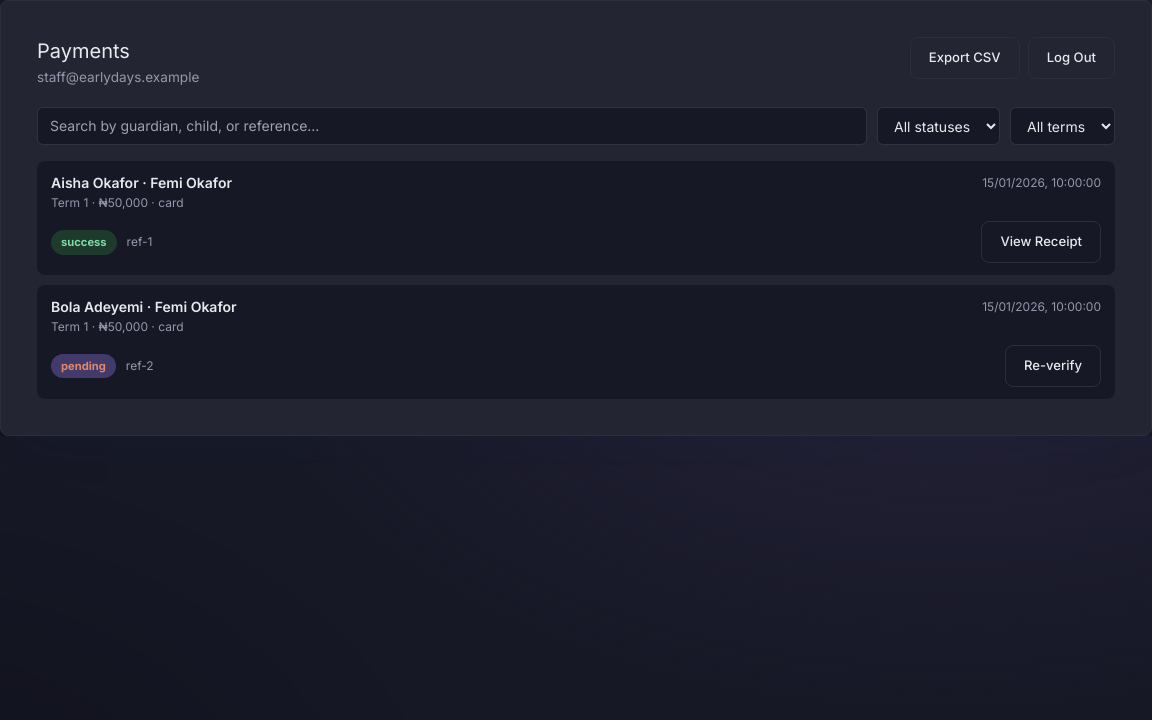
Test: AdminPaymentsList › re-verifies a pending payment and updates its status on success
Expected: the text "Bola Adeyemi · Femi Okafor" is shown, [51,297,237,317]
Click the button "Re-verify" at [1053, 366], box [1005,345,1101,387]
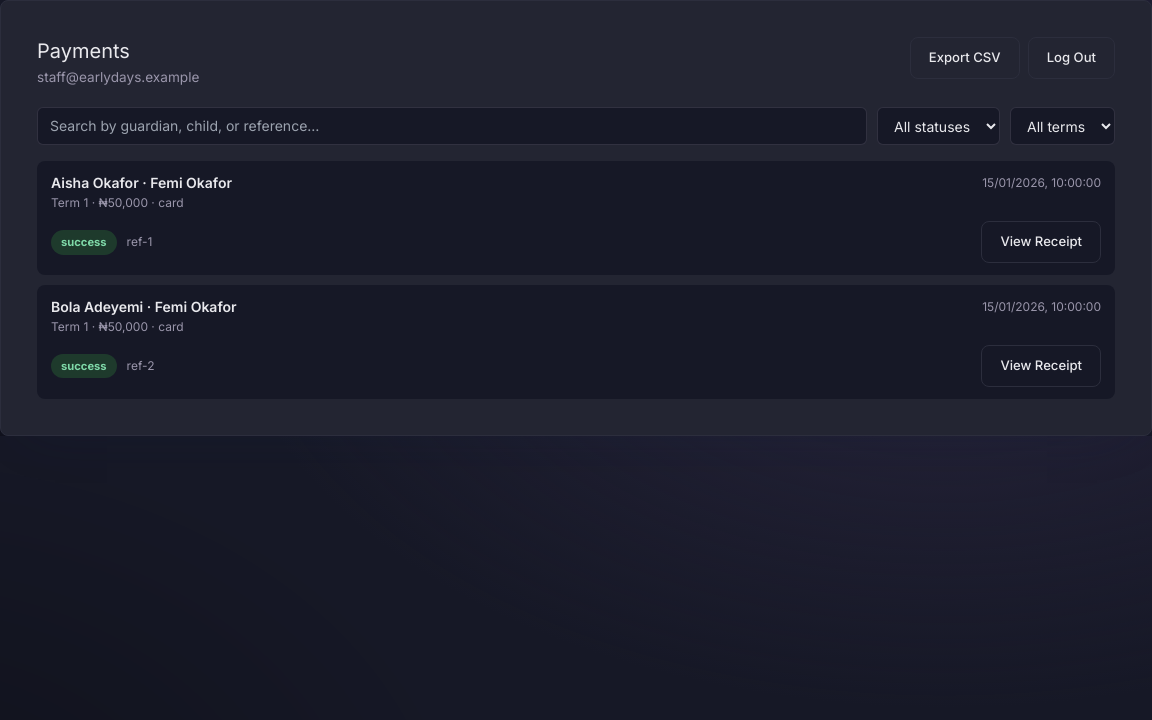
Expected: the button "Re-verify" is gone
